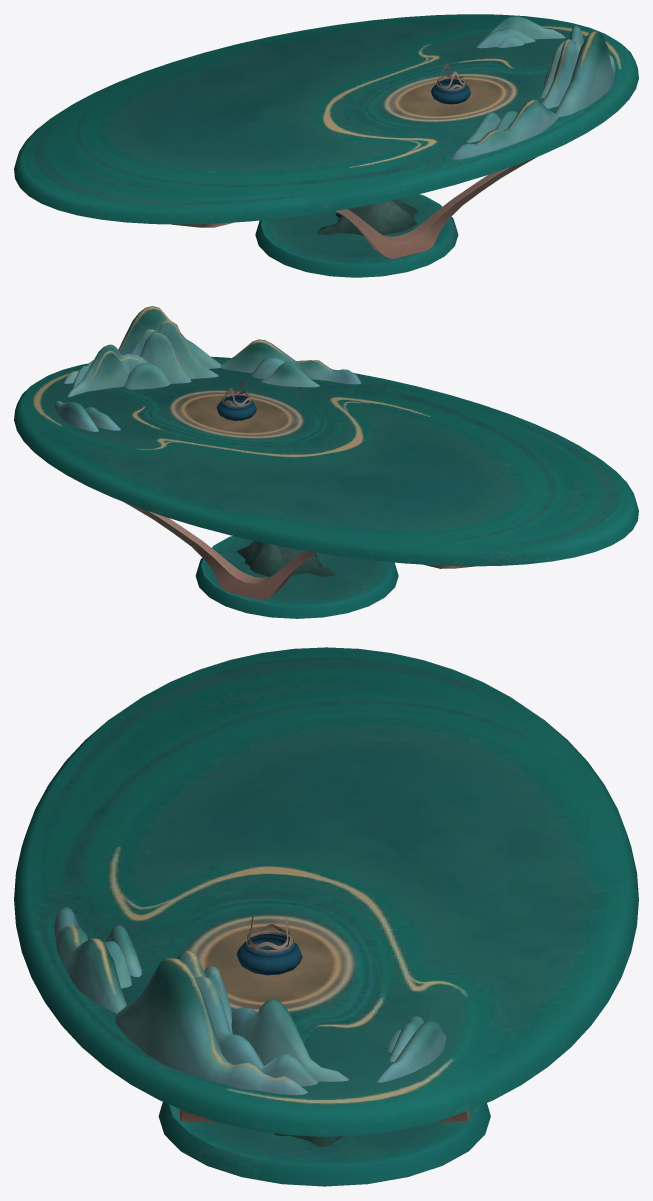
File: furniture-19314.glb
3 renders of one model, top to bottom at view 1: azimuth 30°, elevation 25°; view 2: azimuth 150°, elevation 25°; view 3: azimuth 270°, elevation 25°, orthographic. The views are drawn at different scales.
Bounding box in the file's own units: 2.15 × 0.6526 × 1.19.
2 materials, 2 textured.
